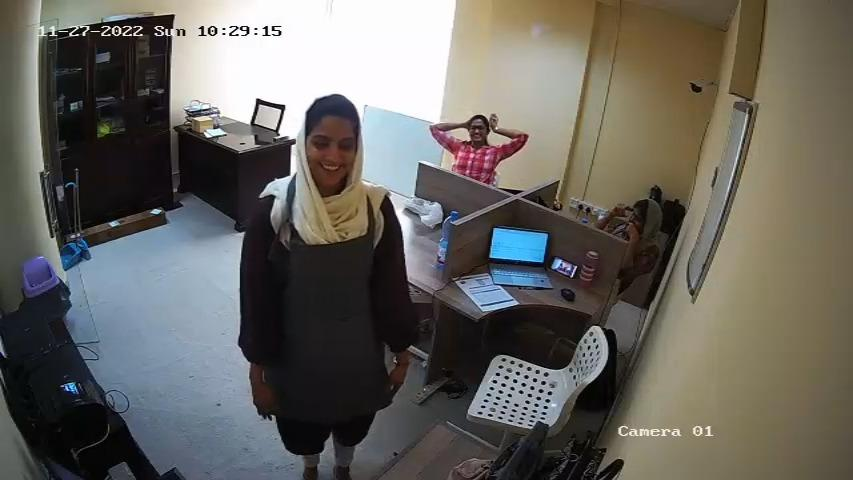apron: (276, 195, 383, 416)
